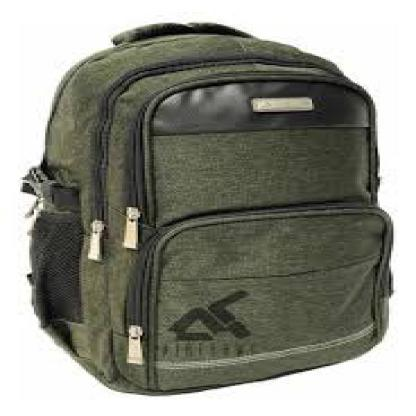morral: (13, 15, 395, 401)
